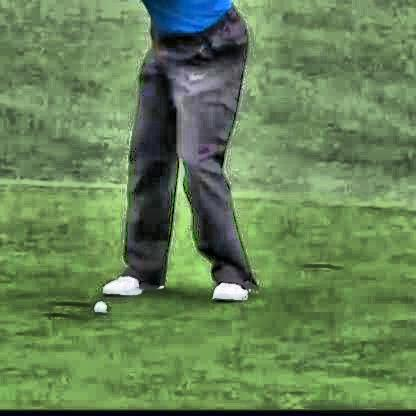golfball: (91, 299, 107, 312)
